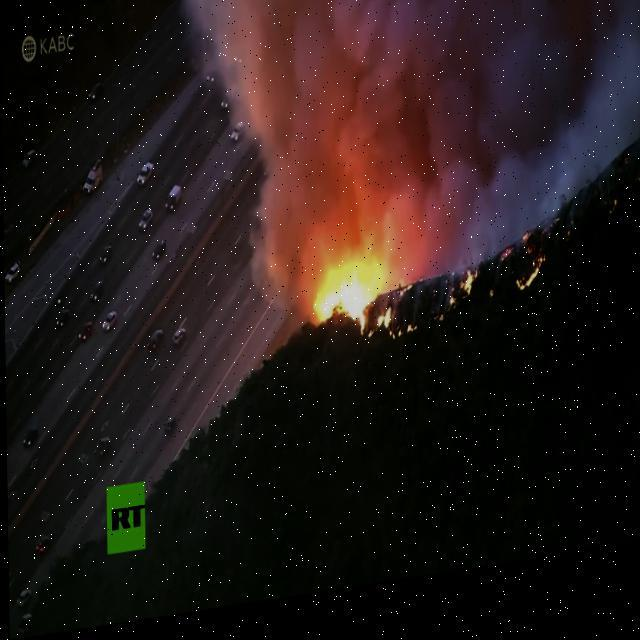Fire: (313, 274, 370, 353), (375, 316, 414, 354), (446, 286, 470, 321), (516, 276, 539, 306)
